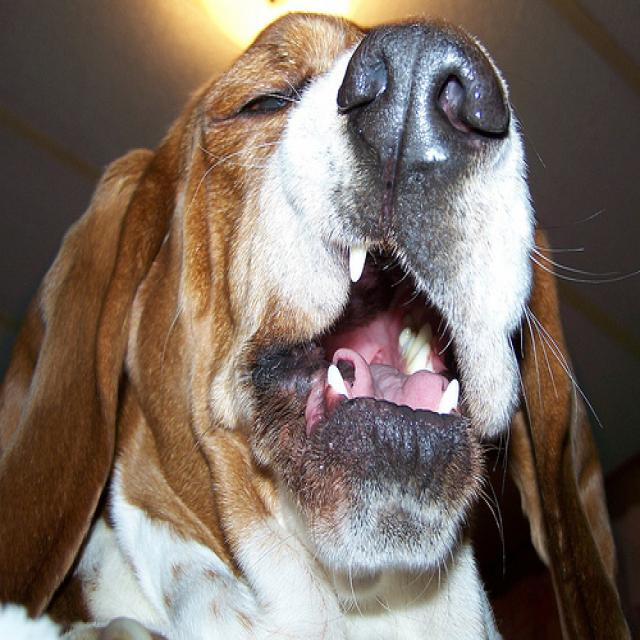dog-basset_hound: (1, 2, 637, 637)
